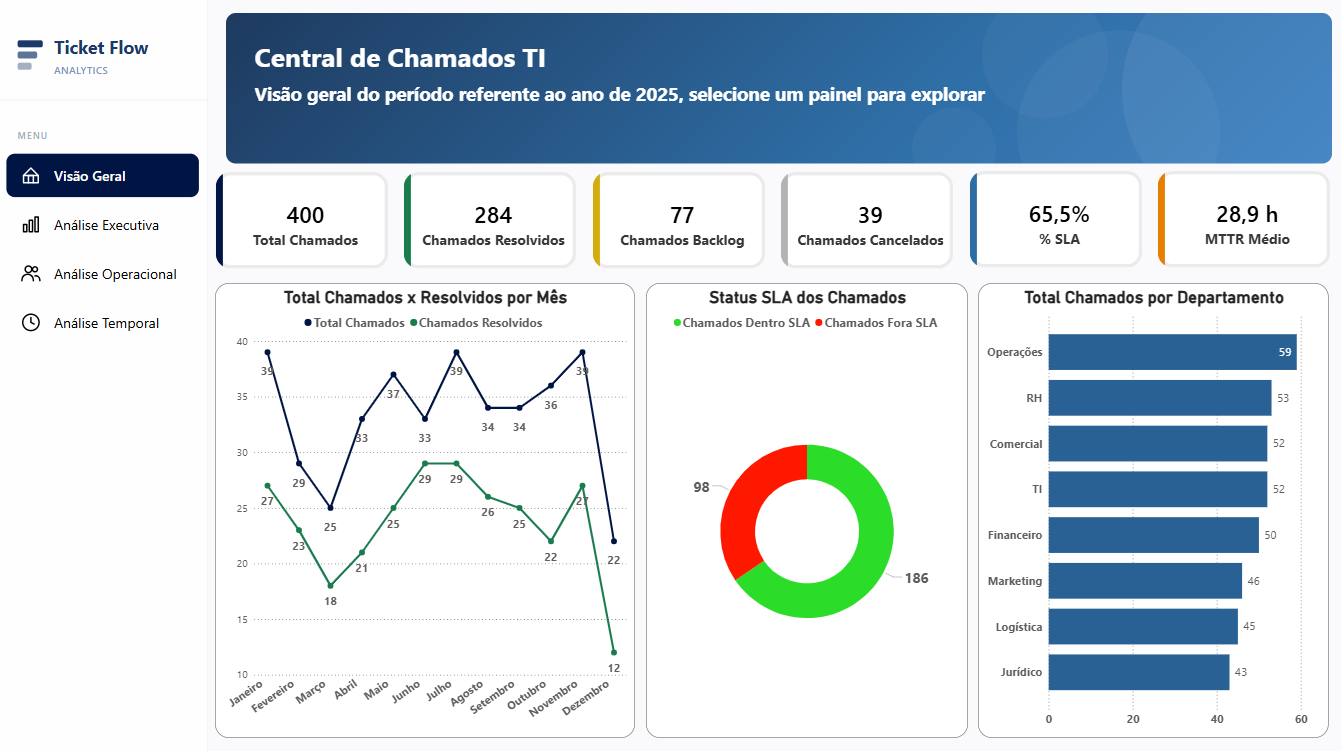

The page's visual inventory and layout, read from the dashboard file:
{"tool":"powerbi","page":{"name":"Visão Geral","canvas":[1920,1080],"ordinal":0},"visuals":[{"type":"htmlContent443BE3AD55E043BF878BED274D3A6855","fields":{"content":["Medidas.HTML_Menu_Lateral"]},"box":[0,0,300,1080],"z":0},{"type":"actionButton","title":"Botão Temporal","box":[10,440,280,50],"z":2000},{"type":"actionButton","title":"Botão Operacional","box":[10,368,280,50],"z":3000},{"type":"actionButton","title":"Botão Executiva","box":[10,295,280,50],"z":4000},{"type":"htmlContent443BE3AD55E043BF878BED274D3A6855","fields":{"content":["Medidas.HTML_Banner"]},"box":[326,20,1580,215],"z":5000},{"type":"textbox","box":[346,52,458,76],"z":6000},{"type":"textbox","box":[362,112,1078,74],"z":7000},{"type":"lineChart","title":"Total Chamados x Resolvidos por Mês","fields":{"Category":["Dim_Calendario.Mes_Nome"],"Y":["Medidas.Total_Chamados","Medidas.Chamados_Resolvidos"]},"box":[310,405.7,600,650],"z":8000},{"type":"donutChart","title":"Status SLA dos Chamados","fields":{"Y":["Medidas.Chamados_Dentro_SLA","Medidas.Chamados_Fora_SLA"]},"box":[925,405.7,460,650],"z":9000},{"type":"clusteredBarChart","title":"Total Chamados por Departamento","fields":{"Category":["Fato_Chamados.Departamento_Solicitante"],"Y":["Medidas.Total_Chamados"]},"box":[1400,405.7,501.4,650],"z":10000},{"type":"cardVisual","title":"dfsd","fields":{"Data":["Medidas.Chamados_Resolvidos"]},"box":[563.4,230,280,172.9],"z":11000},{"type":"cardVisual","title":"dfsd","fields":{"Data":["Medidas.Total_Chamados"]},"box":[294.3,230,280,172.9],"z":12000},{"type":"cardVisual","title":"dfsd","fields":{"Data":["Medidas.Chamados_Backlog"]},"box":[832.6,230,280,172.9],"z":13000},{"type":"cardVisual","title":"dfsd","fields":{"Data":["Medidas.%_SLA"]},"box":[1370.9,228.6,280,172.9],"z":14000},{"type":"cardVisual","title":"dfsd","fields":{"Data":["Medidas.MTTR_Horas"]},"box":[1640,228.6,280,172.9],"z":15000},{"type":"cardVisual","title":"dfsd","fields":{"Data":["Medidas.Chamados_Cancelados"]},"box":[1101.7,230,280,172.9],"z":16000}]}

Visuals, with their boxes in screenshot pixels (x1, y1, x2, y2), scaled from the page's 1920x1080 canvas onto the 1341x751 screenshot:
htmlContent443BE3AD55E043BF878BED274D3A6855 - Medidas.HTML_Menu_Lateral: rect(0, 0, 210, 750)
"Botão Temporal" actionButton: rect(7, 306, 203, 341)
"Botão Operacional" actionButton: rect(7, 256, 203, 291)
"Botão Executiva" actionButton: rect(7, 205, 203, 240)
htmlContent443BE3AD55E043BF878BED274D3A6855 - Medidas.HTML_Banner: rect(228, 14, 1331, 163)
textbox: rect(242, 36, 562, 89)
textbox: rect(253, 78, 1006, 129)
"Total Chamados x Resolvidos por Mês" lineChart: rect(217, 282, 636, 734)
"Status SLA dos Chamados" donutChart: rect(646, 282, 967, 734)
"Total Chamados por Departamento" clusteredBarChart: rect(978, 282, 1328, 734)
"dfsd" cardVisual: rect(393, 160, 589, 280)
"dfsd" cardVisual: rect(206, 160, 401, 280)
"dfsd" cardVisual: rect(582, 160, 777, 280)
"dfsd" cardVisual: rect(957, 159, 1153, 279)
"dfsd" cardVisual: rect(1145, 159, 1340, 279)
"dfsd" cardVisual: rect(769, 160, 965, 280)
